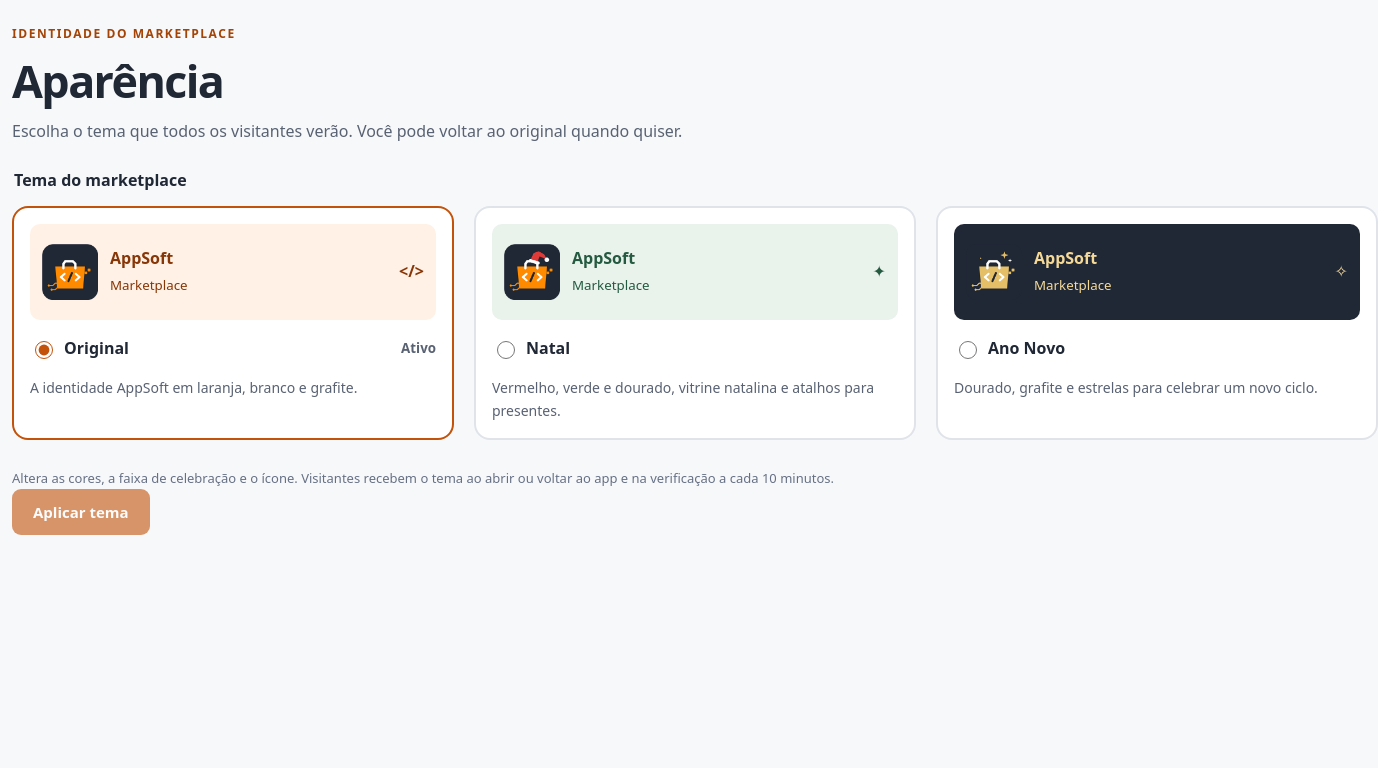
mantém o tema ativo se o salvamento falhar
Click the radio button labelled "Ano Novo".
click(968, 350)  # box [959, 341, 977, 359]
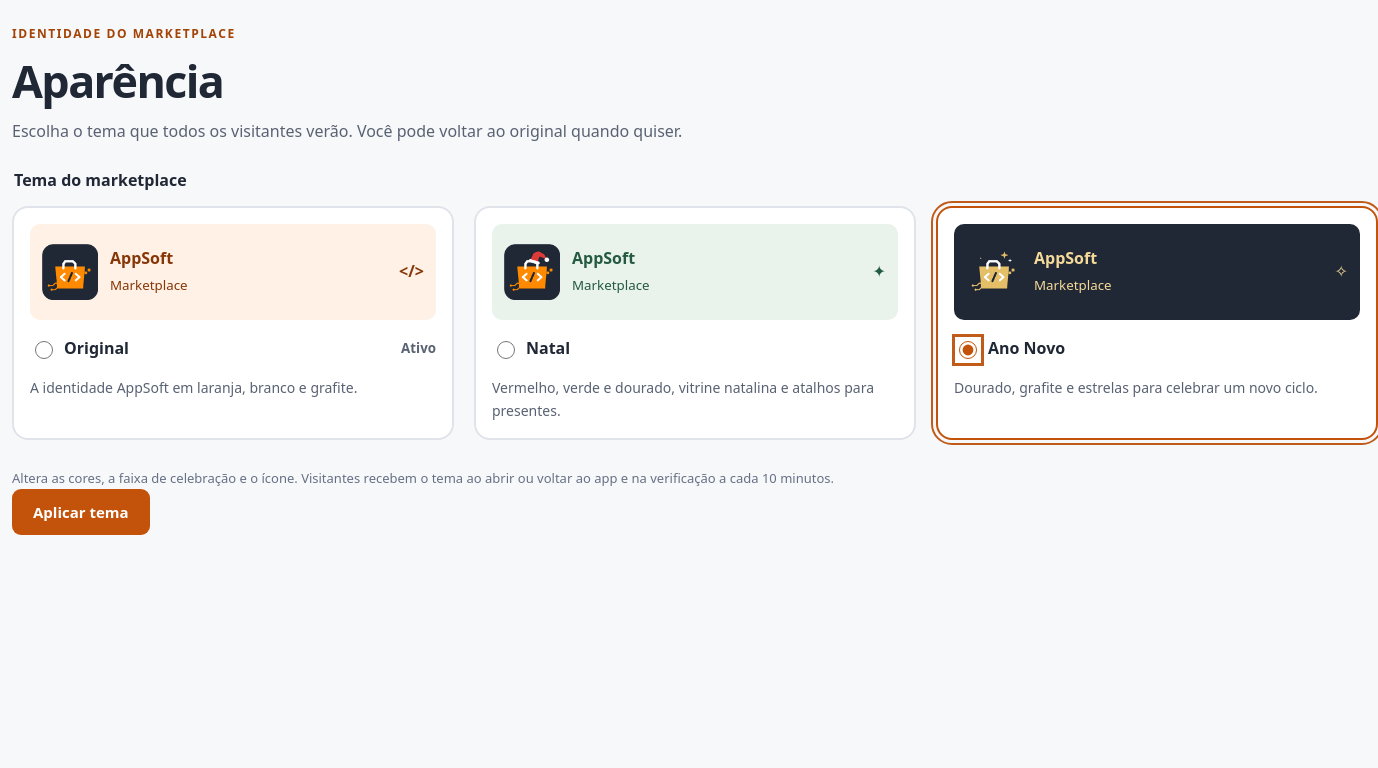
Click the button "Aplicar tema".
click(81, 512)  # box [12, 489, 150, 535]
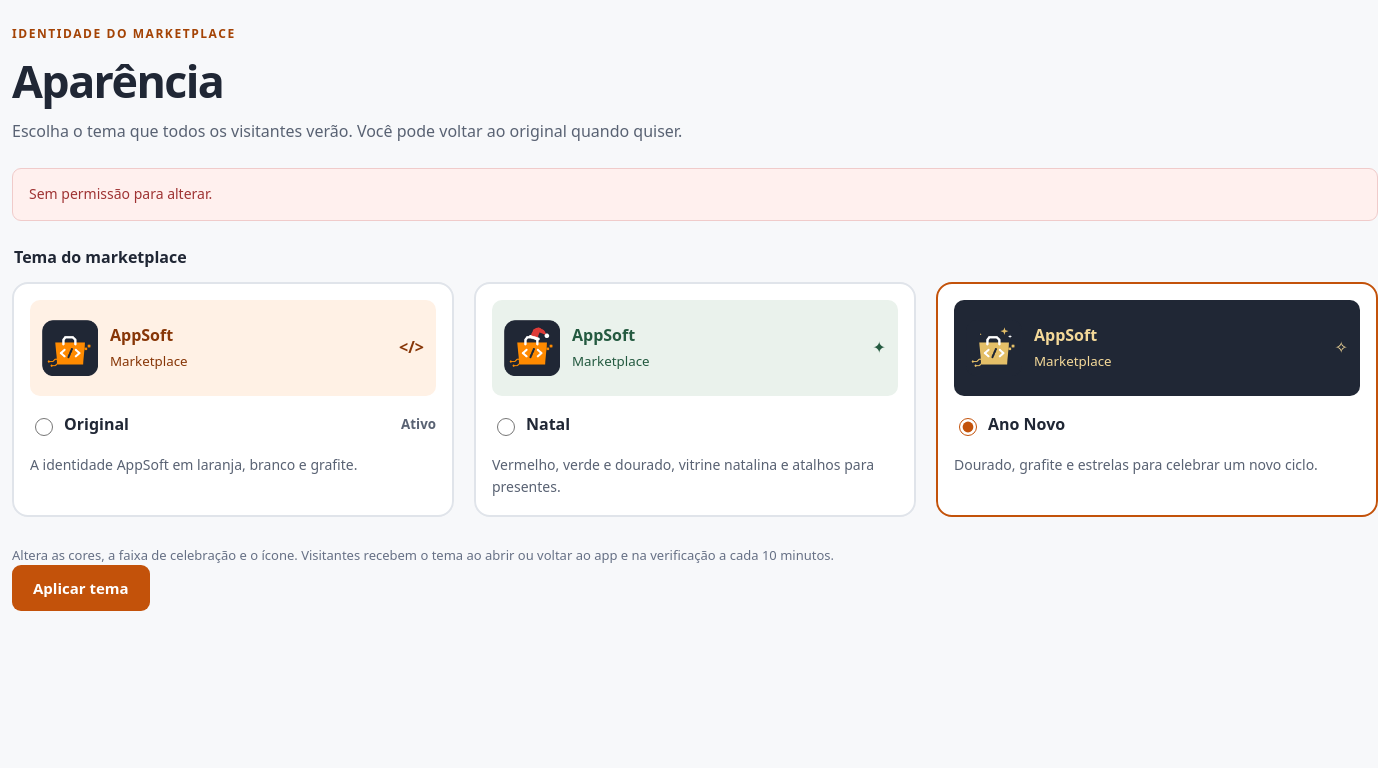
Expected: the message shows "Sem permissão", [29, 184, 212, 203]
